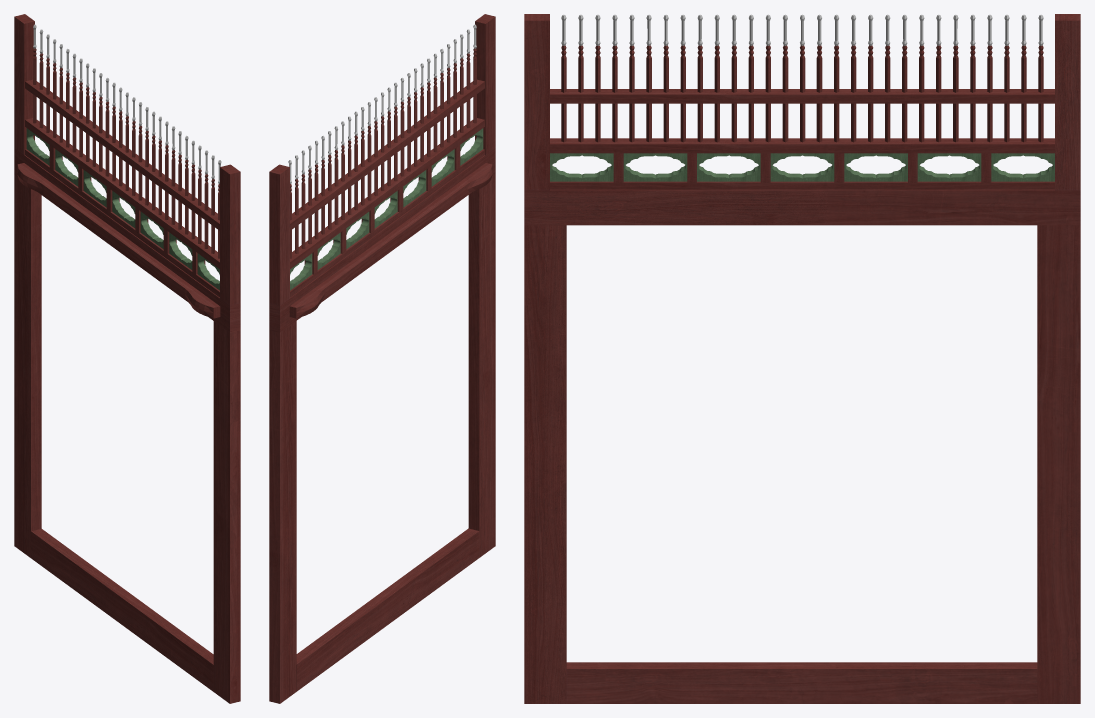
The model's file is SM_DoorFrame01G.fbx.
3 renders of one model, left to right at view 1: azimuth 30°, elevation 25°; view 2: azimuth 150°, elevation 25°; view 3: azimuth 270°, elevation 25°, orthographic. The views are drawn at different scales.
Parts seen in each view (by area): view 1: SM_DoorFrame01G; view 2: SM_DoorFrame01G; view 3: SM_DoorFrame01G.
Boxes of the visible parts, x1,y1,x2,y2 form: SM_DoorFrame01G: (14,14,240,703); SM_DoorFrame01G: (269,14,495,703); SM_DoorFrame01G: (524,14,1080,703).
Size of the model in its own units: 21.63 by 333 by 453.
